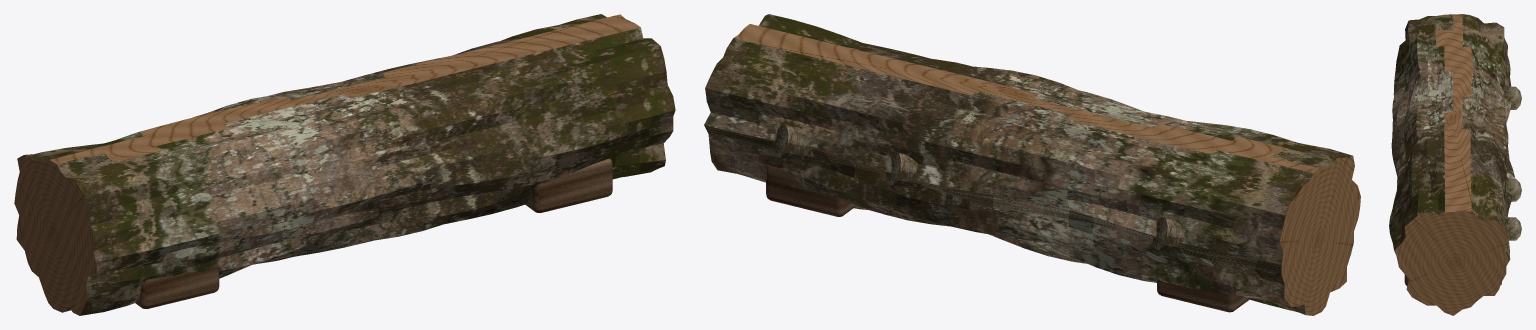
Rendered from camp_log_seat.glb.
3 views of the same model, side by side, from view 1: azimuth 30°, elevation 25°; view 2: azimuth 150°, elevation 25°; view 3: azimuth 270°, elevation 25° (orthographic). The views are drawn at different scales.
Visible parts, largest first — view 1: LogSeat, Wooden chock; view 2: LogSeat, Wooden chock, Broken branch knot; view 3: LogSeat, Broken branch knot.
Boxes of the visible parts, x1,y1,x2,y2 form: LogSeat: [14, 14, 675, 315]; Wooden chock: [135, 158, 612, 308]; LogSeat: [704, 14, 1360, 315]; Wooden chock: [766, 165, 1250, 312]; Broken branch knot: [773, 124, 1184, 254]; LogSeat: [1389, 14, 1514, 315]; Broken branch knot: [1504, 86, 1521, 240].
Size of the model in its own units: 2.52 by 0.621 by 0.7096.
3 materials, 3 textured.
